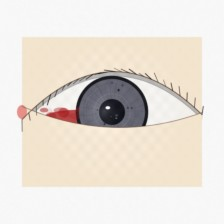hemorrhage_spot: (28, 79, 129, 160)
